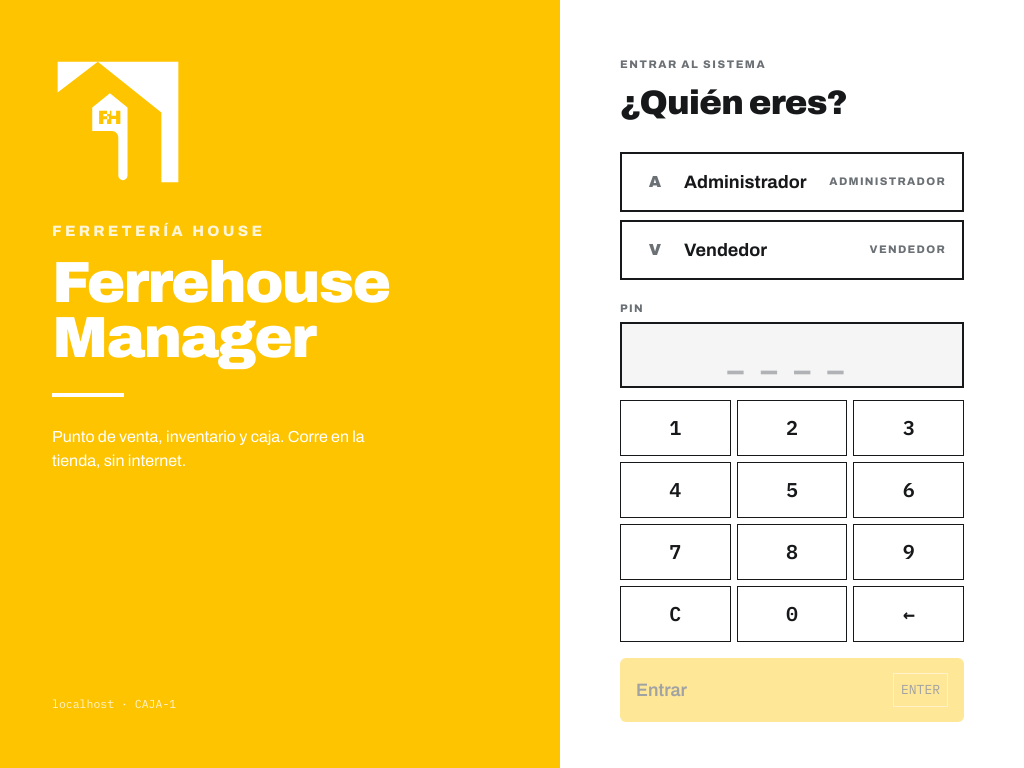
Test: cuándo se puede entrar › con una sola caja no aparece el selector y se puede entrar igual
The width and height of the screenshot is (1024, 768).
Click the button "A Administrador administrador": point(792, 182) x1=620 y1=152 x2=964 y2=212
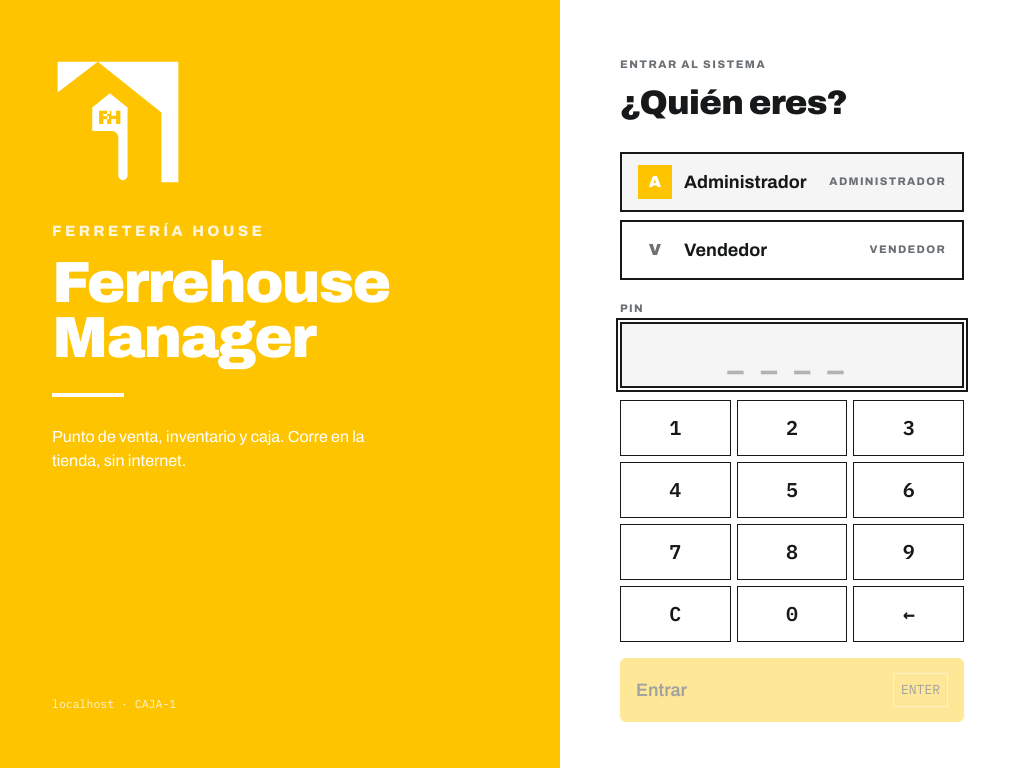
Type keys "111111"
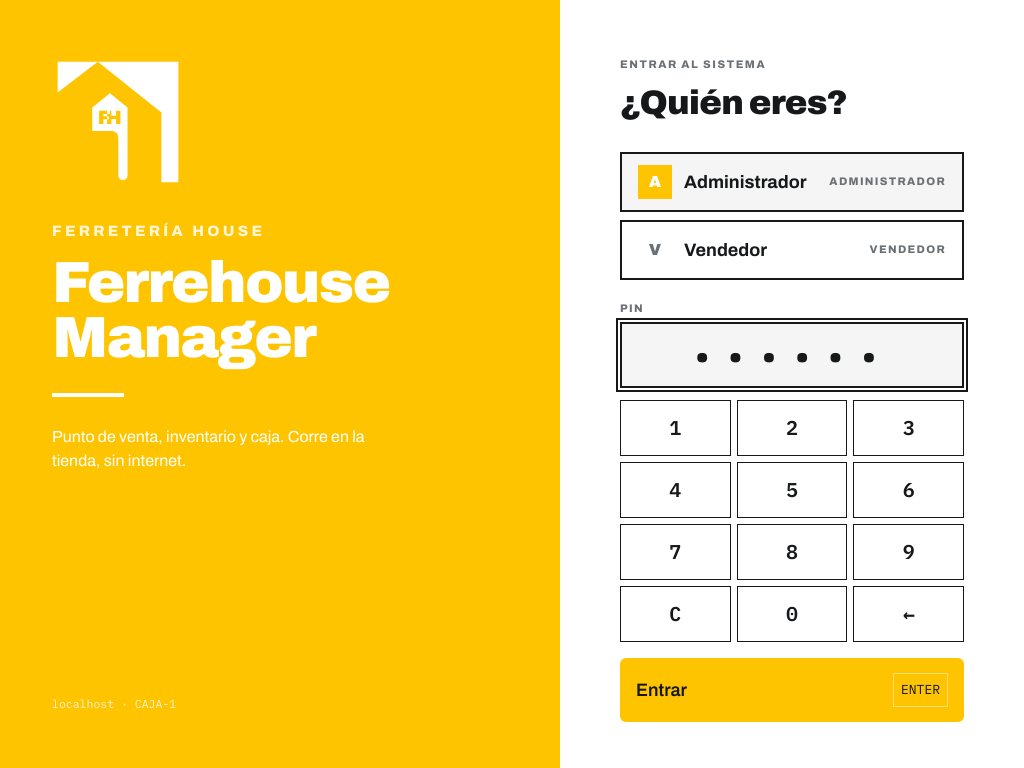
expect the button "Entrar ENTER" is enabled: met, box x1=620 y1=658 x2=964 y2=722
